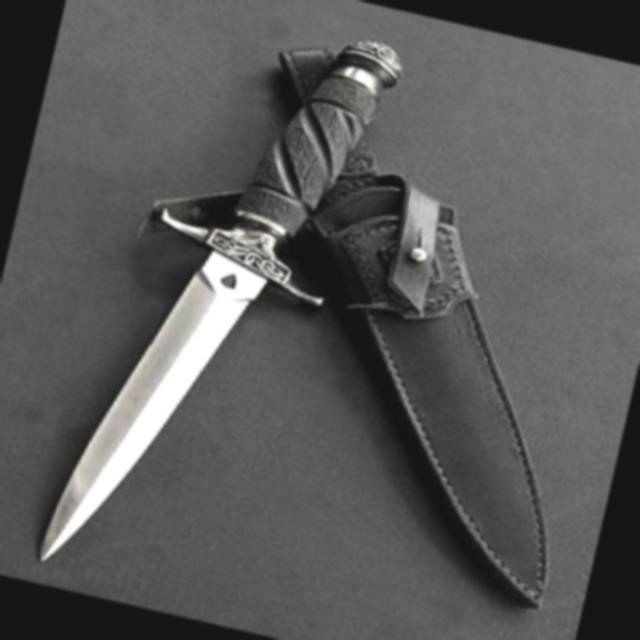short sword: (21, 0, 429, 623)
